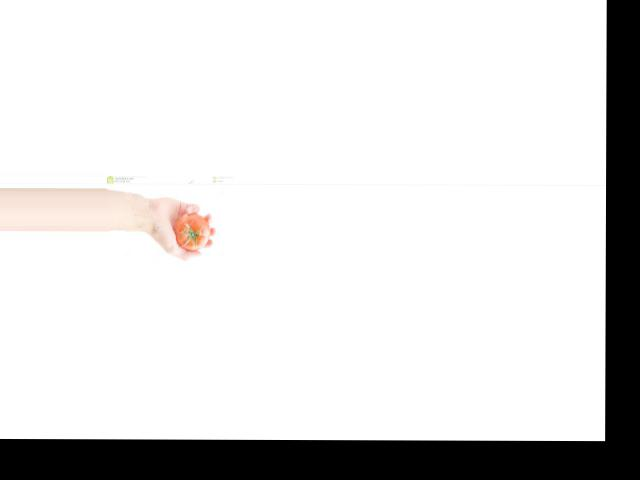tomato: (174, 212, 210, 249)
